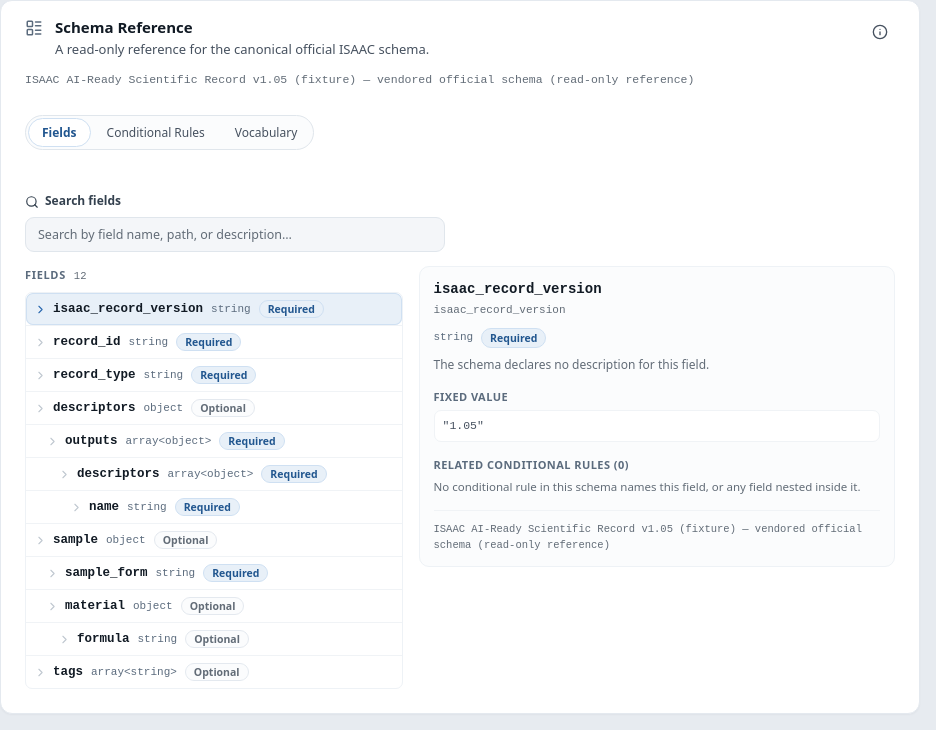
Test: SchemaBrowser — Fields search › shows an honest empty state for a query with no matches
The image size is (936, 730).
Type "no-such-field-anywhere" into the search field labelled "Search fields". click: (235, 234)
box: [25,217,445,252]
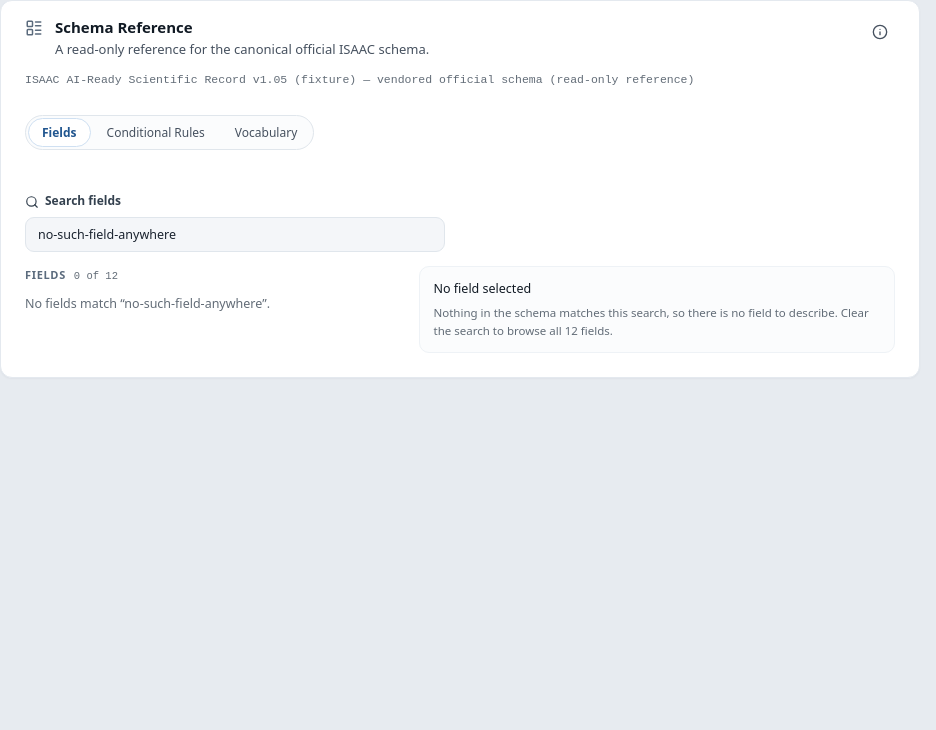
Now the text "No fields match “no-such-field-anywhere”." is shown, box [25,295,270,312]
Now the text "No field selected" is shown, box [434,280,531,297]
